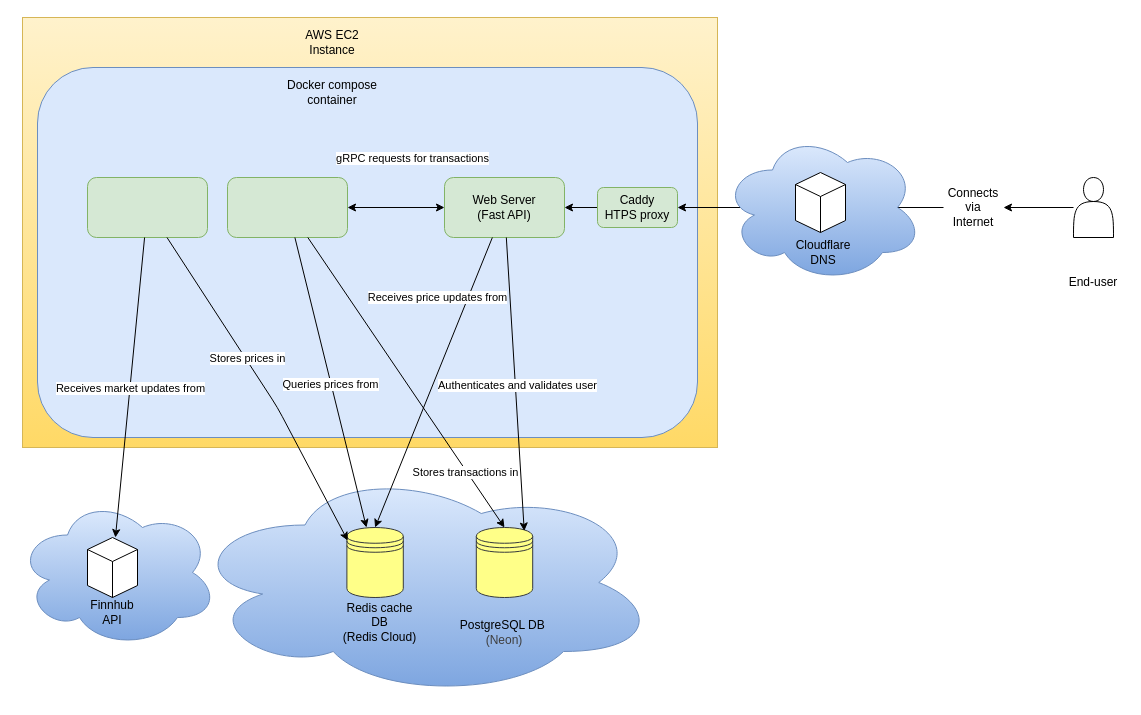
This 1141x715 diagram has some shape labels left out. Each missing label, with the centre of its shape:
Market Service (Node.js): point (147, 207)
Trading Service (Python): point (287, 207)
